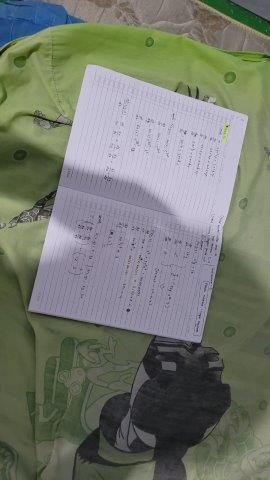kertas: (26, 64, 247, 344)
